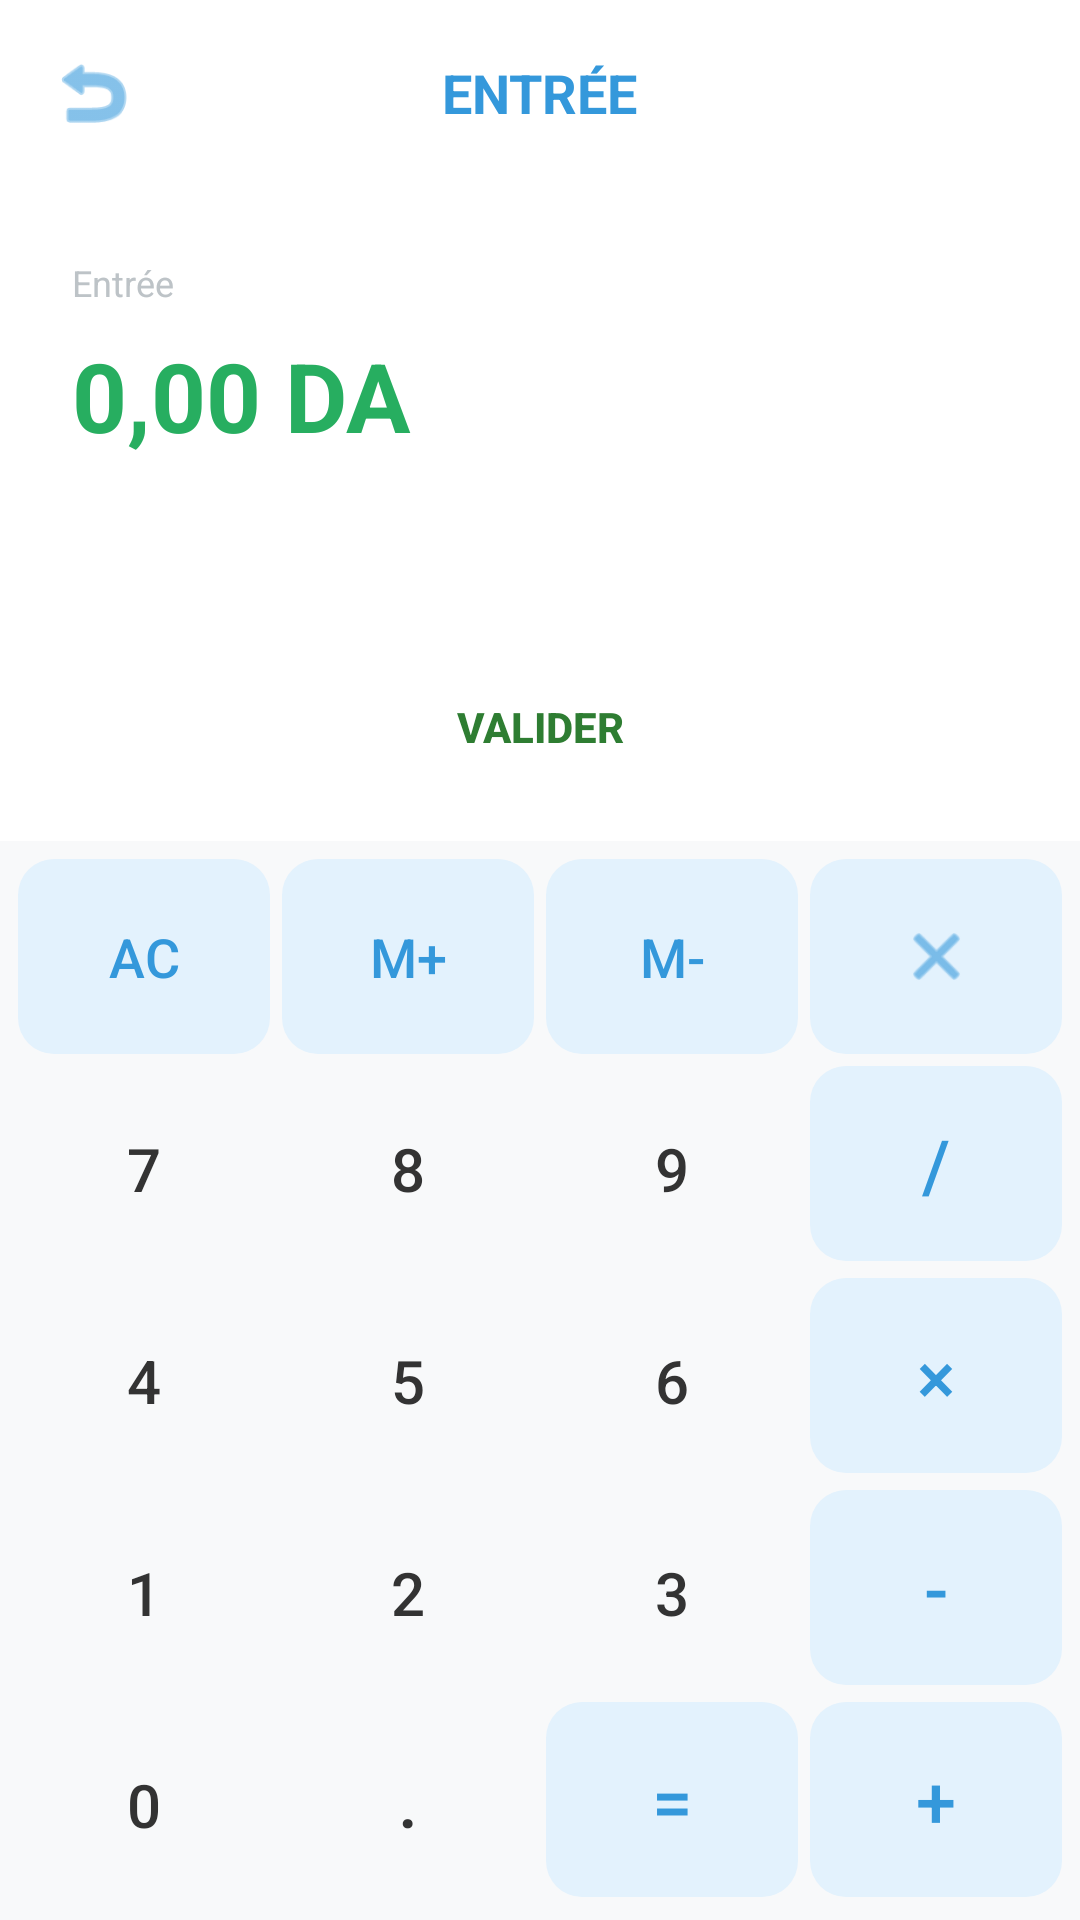

Icon bounding boxes for this 1080 × 1920 phone screenshot, format (x1, y1, x2, y2):
close clear cancel: (913, 933, 960, 980)
revert: (62, 64, 127, 123)
